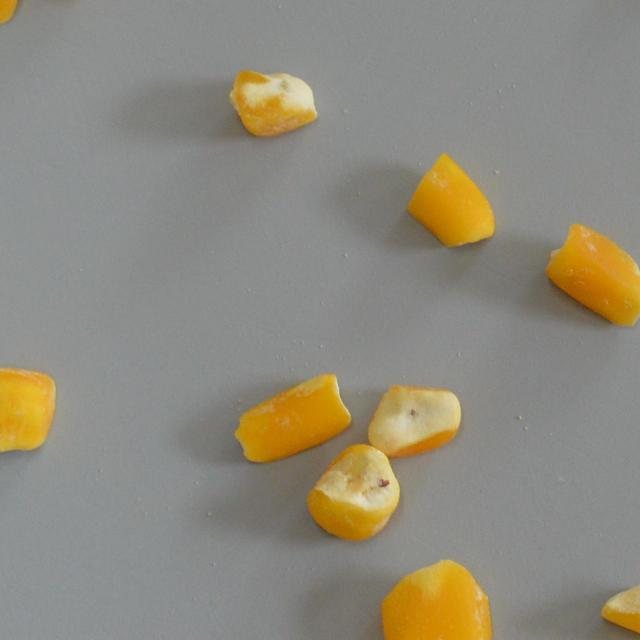dañado: (305, 441, 400, 538), (0, 364, 63, 460)
estandar: (232, 360, 352, 465), (390, 146, 506, 251)
pelicula: (543, 220, 640, 328), (378, 558, 494, 640), (230, 63, 316, 139)
punto_negro: (364, 381, 464, 461), (598, 566, 640, 640)
